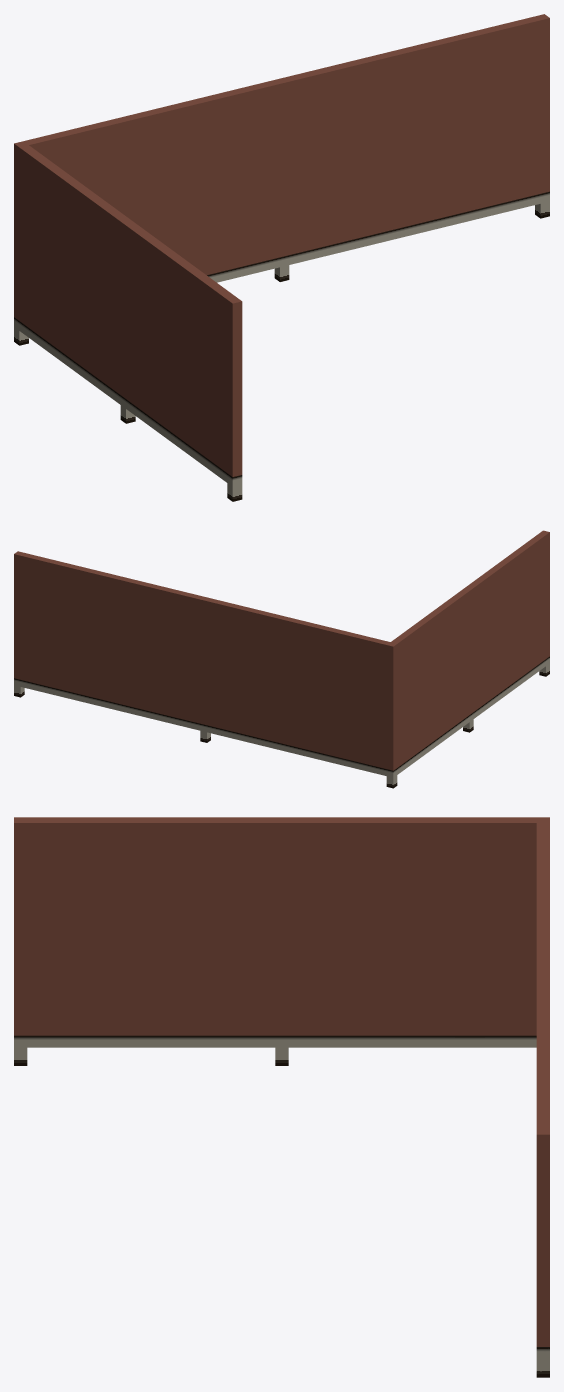
The model's file is prop_partition_01.obj.
3 renders of one model, top to bottom at view 1: azimuth 30°, elevation 25°; view 2: azimuth 150°, elevation 25°; view 3: azimuth 270°, elevation 25°, orthographic. The views are drawn at different scales.
Visible parts, largest first — view 1: entity1_brush2, entity1_brush6, entity1_brush3, entity1_brush5; view 2: entity1_brush2, entity1_brush6, entity1_brush3, entity1_brush5; view 3: entity1_brush6, entity1_brush2, entity1_brush5.
Part boxes in pixels (left/top/right/bottom): entity1_brush2: left=24, top=14, right=549, bottom=275; entity1_brush6: left=14, top=141, right=242, bottom=476; entity1_brush3: left=207, top=191, right=549, bottom=282; entity1_brush5: left=14, top=317, right=242, bottom=486; entity1_brush2: left=14, top=551, right=390, bottom=768; entity1_brush6: left=386, top=530, right=549, bottom=770; entity1_brush3: left=14, top=678, right=386, bottom=775; entity1_brush5: left=386, top=656, right=549, bottom=777; entity1_brush6: left=14, top=817, right=549, bottom=1035; entity1_brush2: left=536, top=823, right=549, bottom=1346; entity1_brush5: left=14, top=1035, right=536, bottom=1047.
Size of the model in its own units: 224 by 80 by 160.
